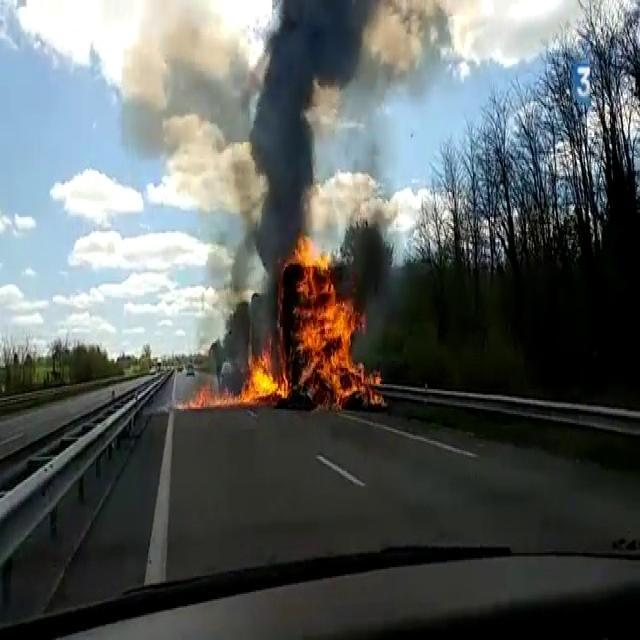Fire: (294, 239, 366, 406), (184, 346, 288, 412)
Smoke: (120, 1, 367, 280)
